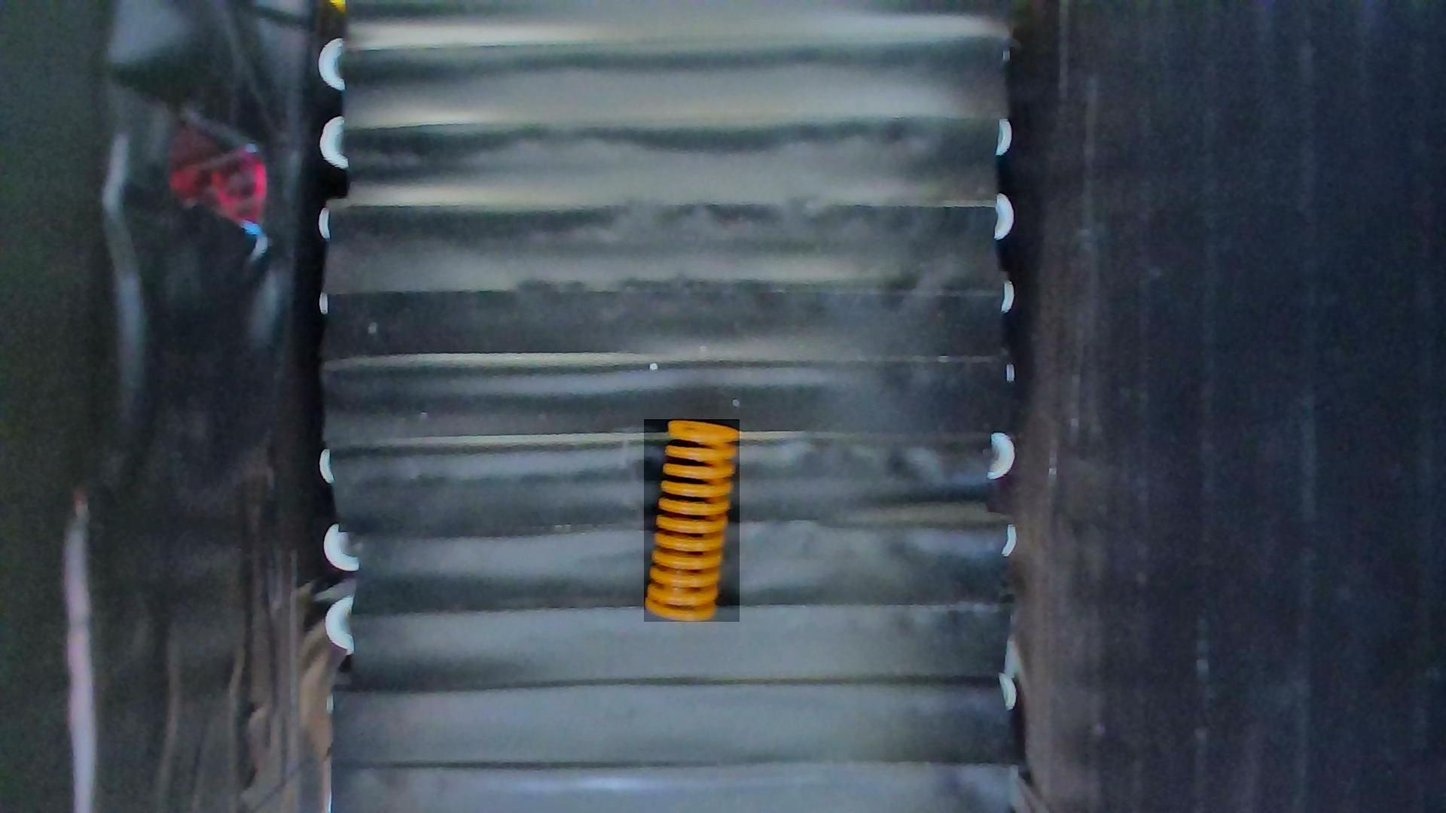spring: (645, 419, 740, 622)
